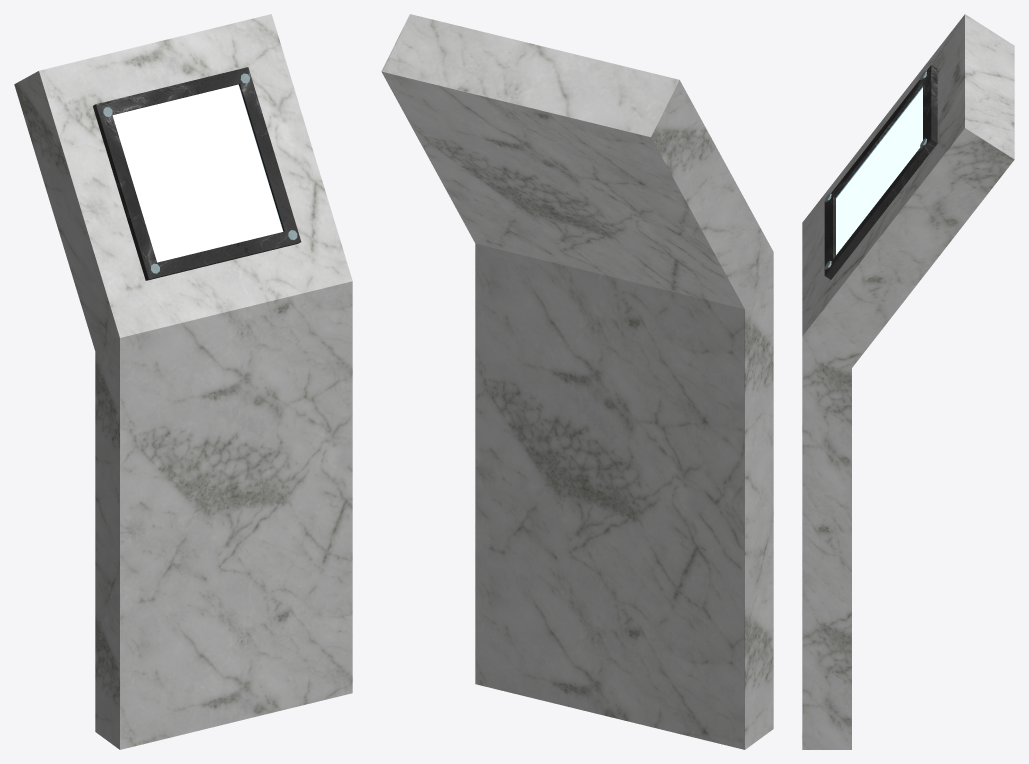
The model's file is gallery_plaque.fbx.
3 views of the same model, side by side, from view 1: azimuth 30°, elevation 25°; view 2: azimuth 150°, elevation 25°; view 3: azimuth 270°, elevation 25° (orthographic). The views are drawn at different scales.
Parts seen in each view (by area): view 1: Description; view 2: Description; view 3: Description.
Part boxes in pixels (x1,y1,x2,y2): Description: (14,14,352,749); Description: (381,14,773,749); Description: (802,14,1014,749).
Size of the model in its own units: 47.71 by 121 by 37.54.
Materials: 1 (1 with a texture image).
